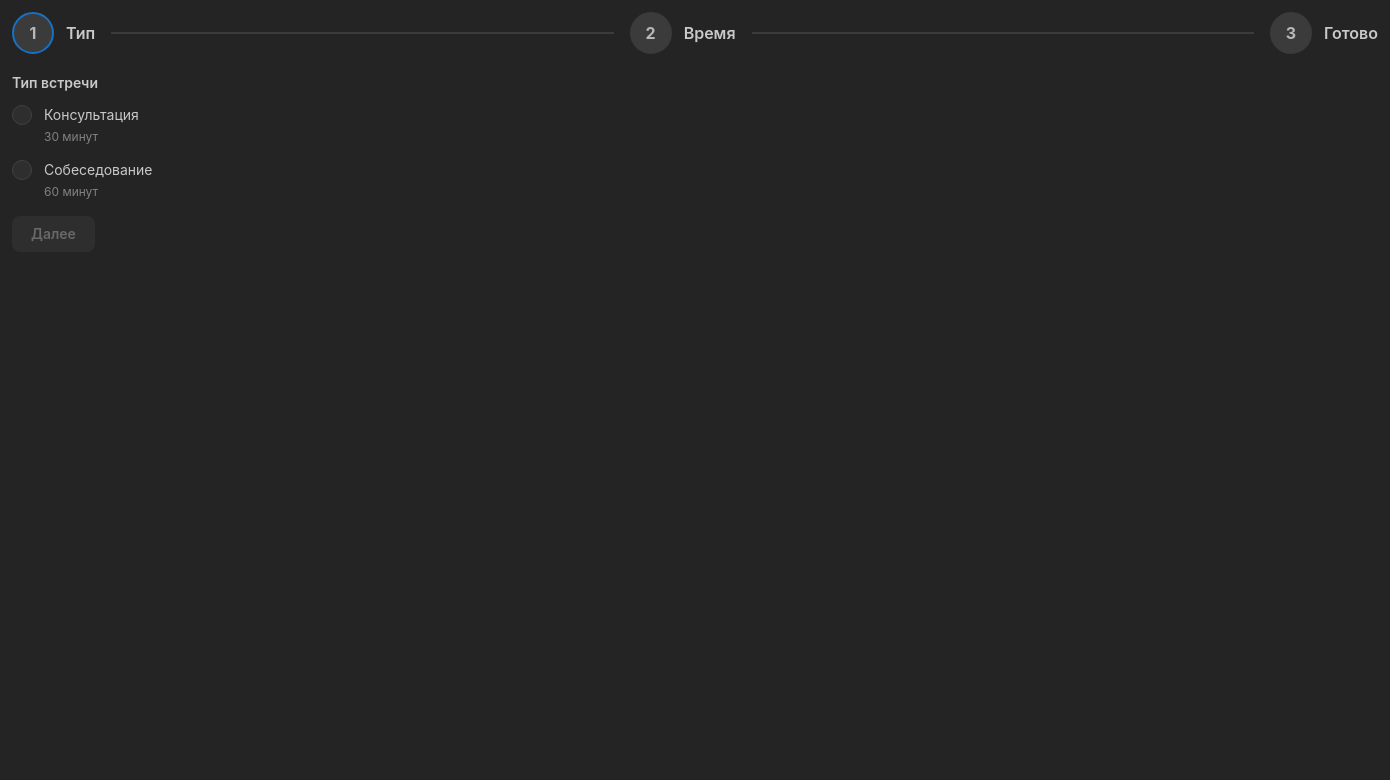
Test case: гостевой вид › выбранный день показывает сетку слотов; занятый слот выключен
Click the radio button labelled "Консультация".
click(22, 115)  # box top-left (12, 105), bottom-right (32, 125)
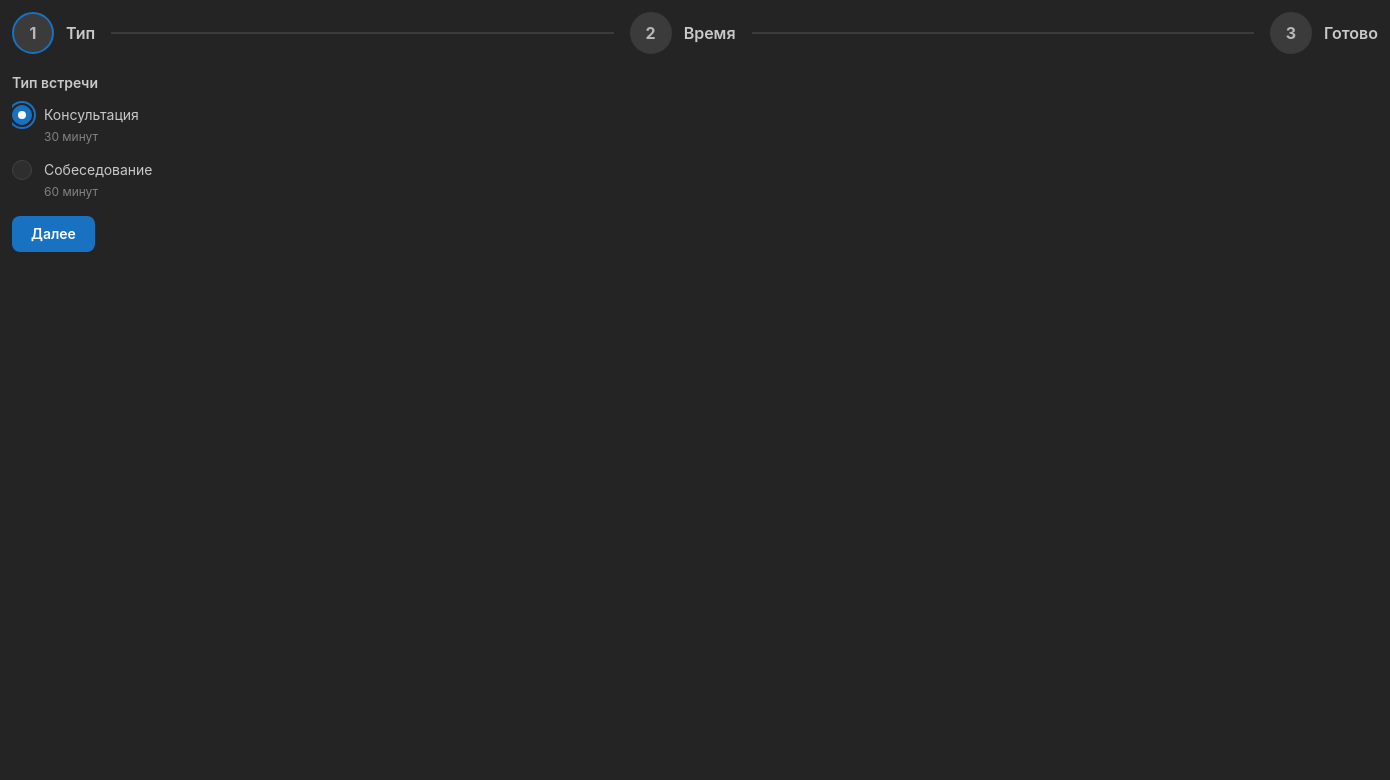
Click the button "Далее".
click(53, 234)  # box top-left (12, 216), bottom-right (95, 252)
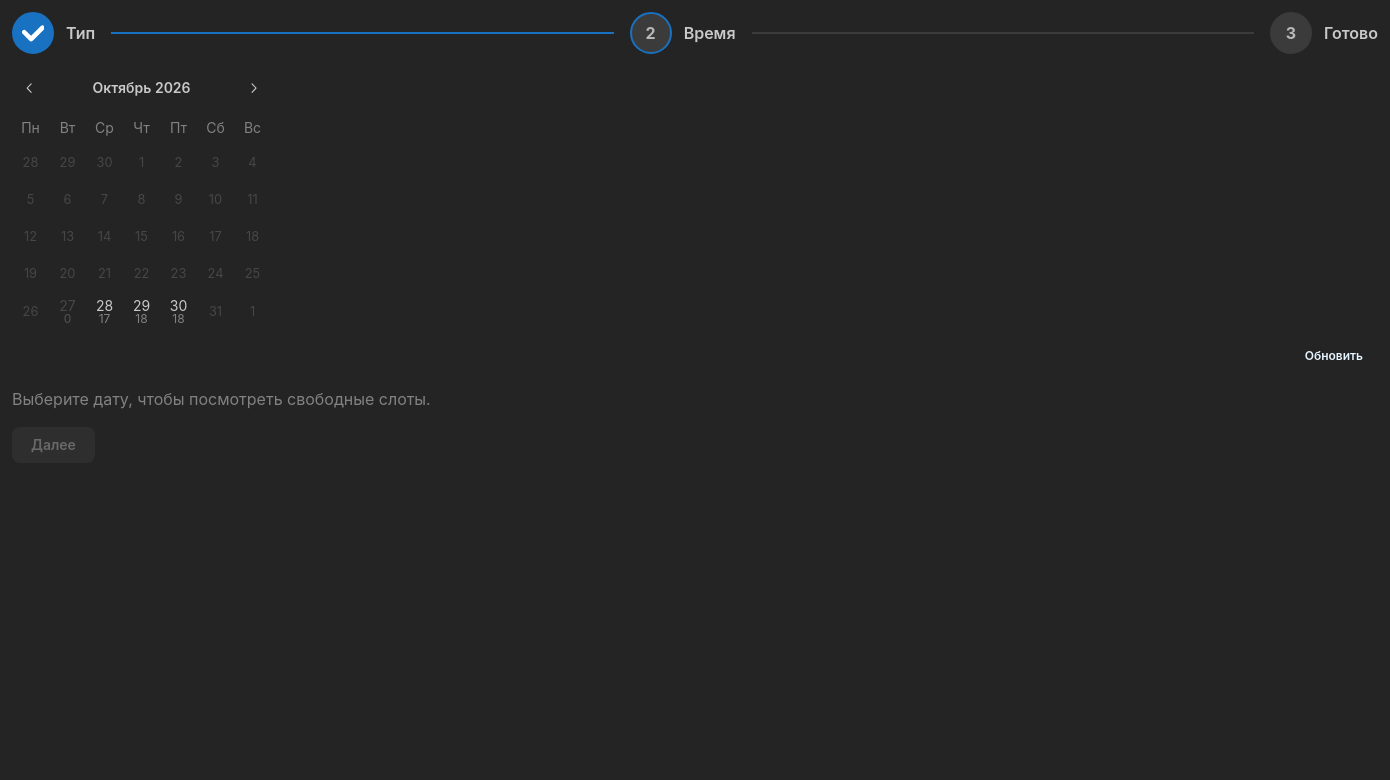
Click the button "28 17".
click(104, 312)  # box top-left (86, 294), bottom-right (122, 330)
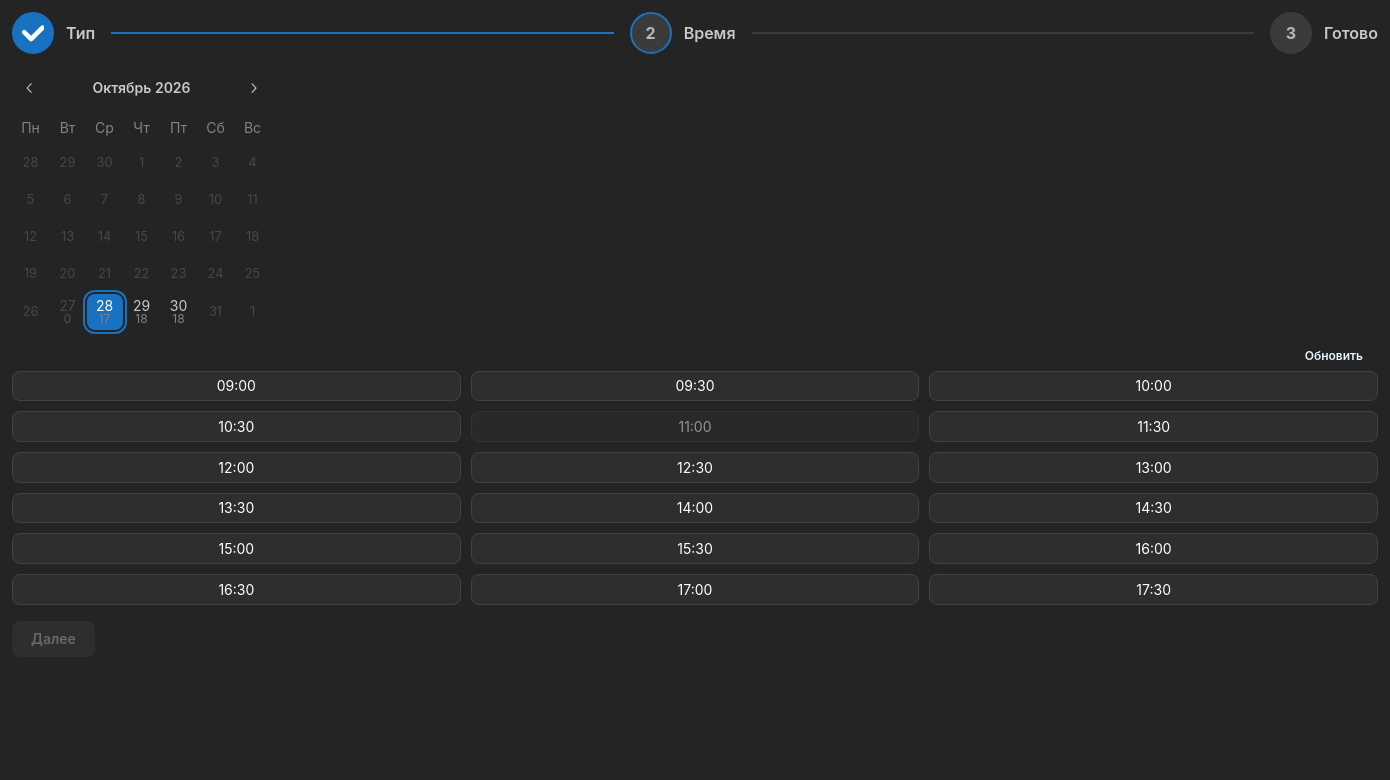
Now the button "09:00" is enabled, box top-left (12, 371), bottom-right (461, 401)
Now the button "11:00" is disabled, box top-left (471, 411), bottom-right (919, 442)
Now the button "17:30" is enabled, box top-left (929, 574), bottom-right (1378, 605)
